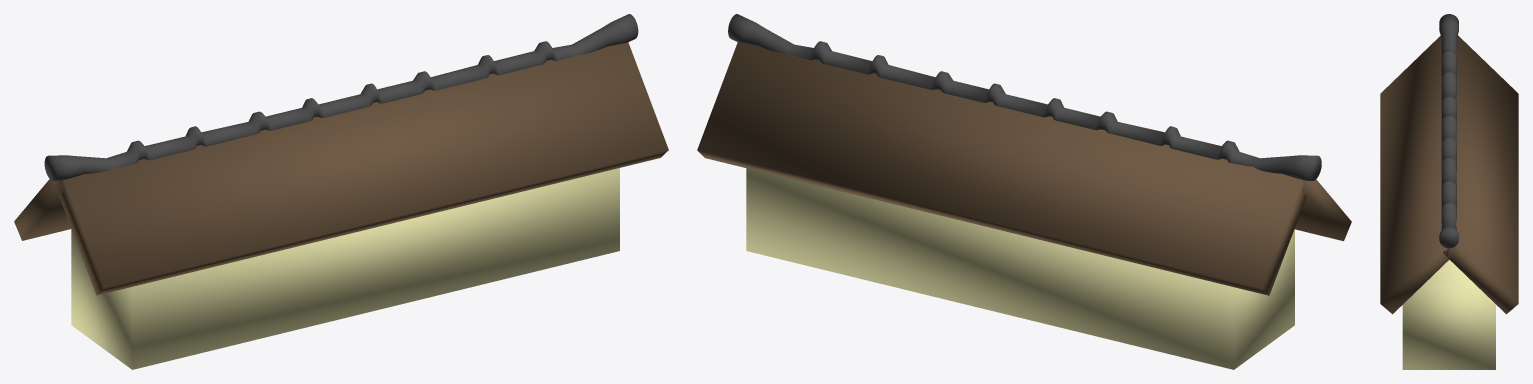
3 renders of one model, left to right at view 1: azimuth 30°, elevation 25°; view 2: azimuth 150°, elevation 25°; view 3: azimuth 270°, elevation 25°, orthographic. The views are drawn at different scales.
Parts seen in each view (by area): view 1: Cube; view 2: Cube; view 3: Cube.
Part boxes in pixels (bbox=[...]): Cube: bbox=[14, 14, 668, 369]; Cube: bbox=[697, 14, 1351, 369]; Cube: bbox=[1380, 14, 1518, 369].
Bounding box in the file's own units: 1098 × 368 × 296.
